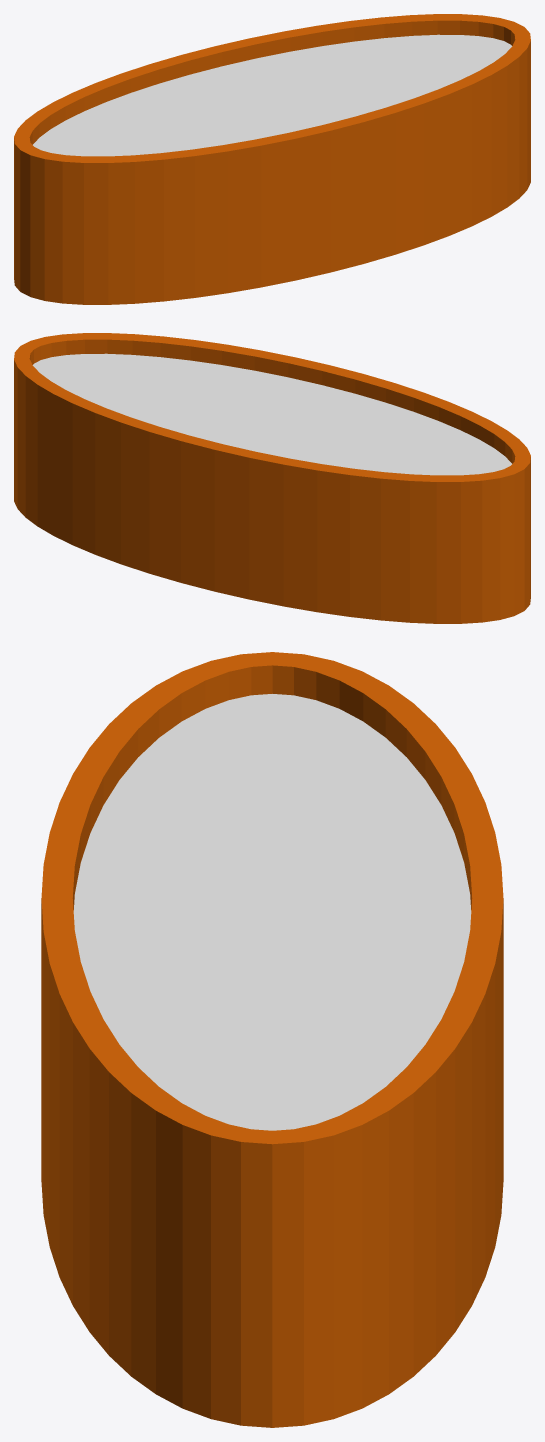
Rendered from serUSD.glb.
The picture shows the model from 3 angles, top to bottom: view 1: azimuth 30°, elevation 25°; view 2: azimuth 150°, elevation 25°; view 3: azimuth 270°, elevation 25°; orthographic projection. The views are drawn at different scales.
Parts seen in each view (by area): view 1: serSU; view 2: serSU; view 3: serSU.
Boxes of the visible parts, box(x1,y1,x2,y2) form: serSU: box(14, 14, 530, 304); serSU: box(14, 333, 530, 623); serSU: box(41, 652, 503, 1427).
Bounding box in the file's own units: 0.0221 × 0.00594 × 0.00876.
